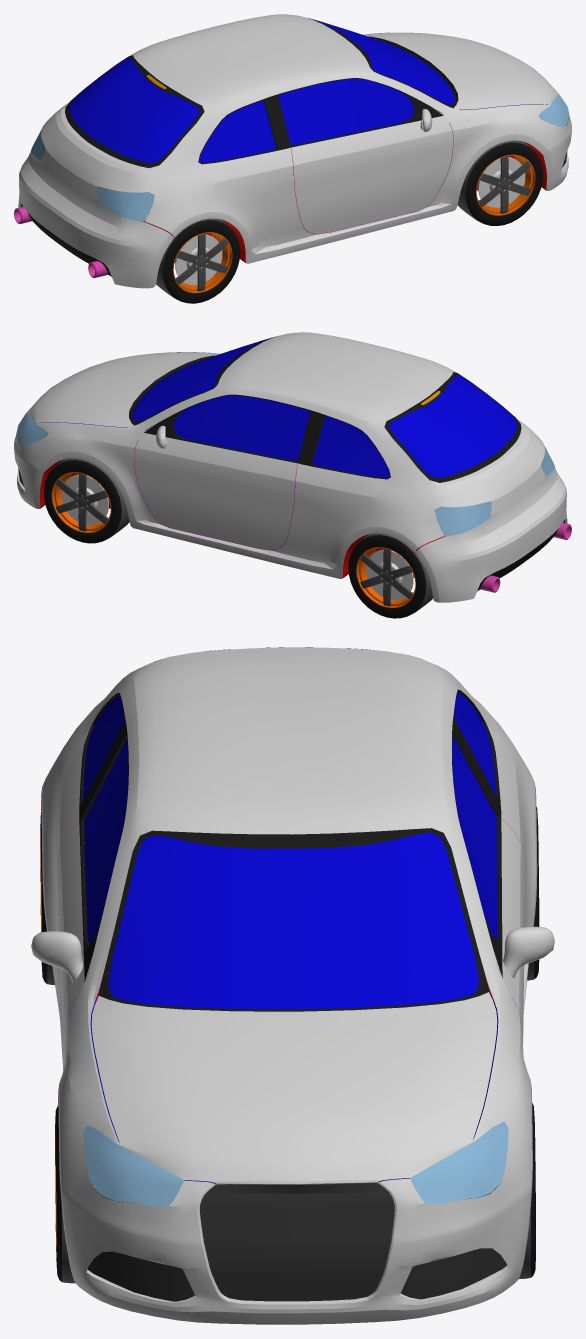
File: wild_car.dae
3 renders of one model, top to bottom at view 1: azimuth 30°, elevation 25°; view 2: azimuth 150°, elevation 25°; view 3: azimuth 270°, elevation 25°, orthographic. The views are drawn at different scales.
Visible parts, largest first — view 1: Wind, FR, RR; view 2: Wind, FL, RL; view 3: Wind, FR, FL.
Part boxes in pixels (x1,y1,x2,y2): Wind: [14, 14, 571, 288]; FR: [457, 140, 543, 225]; RR: [156, 218, 240, 303]; Wind: [14, 332, 571, 602]; FL: [43, 458, 129, 543]; RL: [348, 533, 432, 618]; Wind: [31, 647, 554, 1324]; FR: [55, 1105, 75, 1283]; FL: [519, 1102, 535, 1278].
Bounding box in the file's own units: 4.16 × 1.92 × 1.46.
